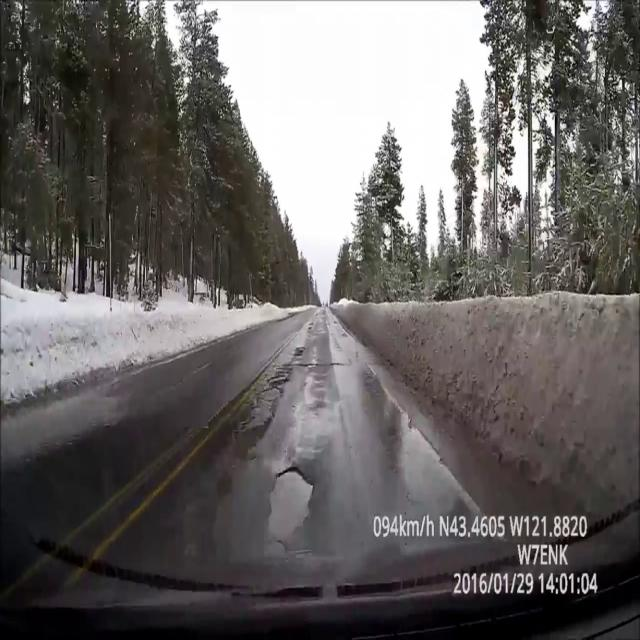Pothole: (258, 464, 324, 539), (237, 387, 284, 435), (268, 369, 292, 384), (290, 344, 307, 361), (297, 361, 317, 368), (308, 322, 314, 326), (308, 326, 311, 331), (315, 312, 318, 316)
